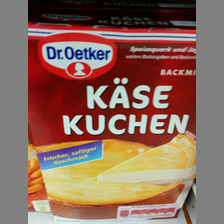cake: (27, 14, 195, 220)
